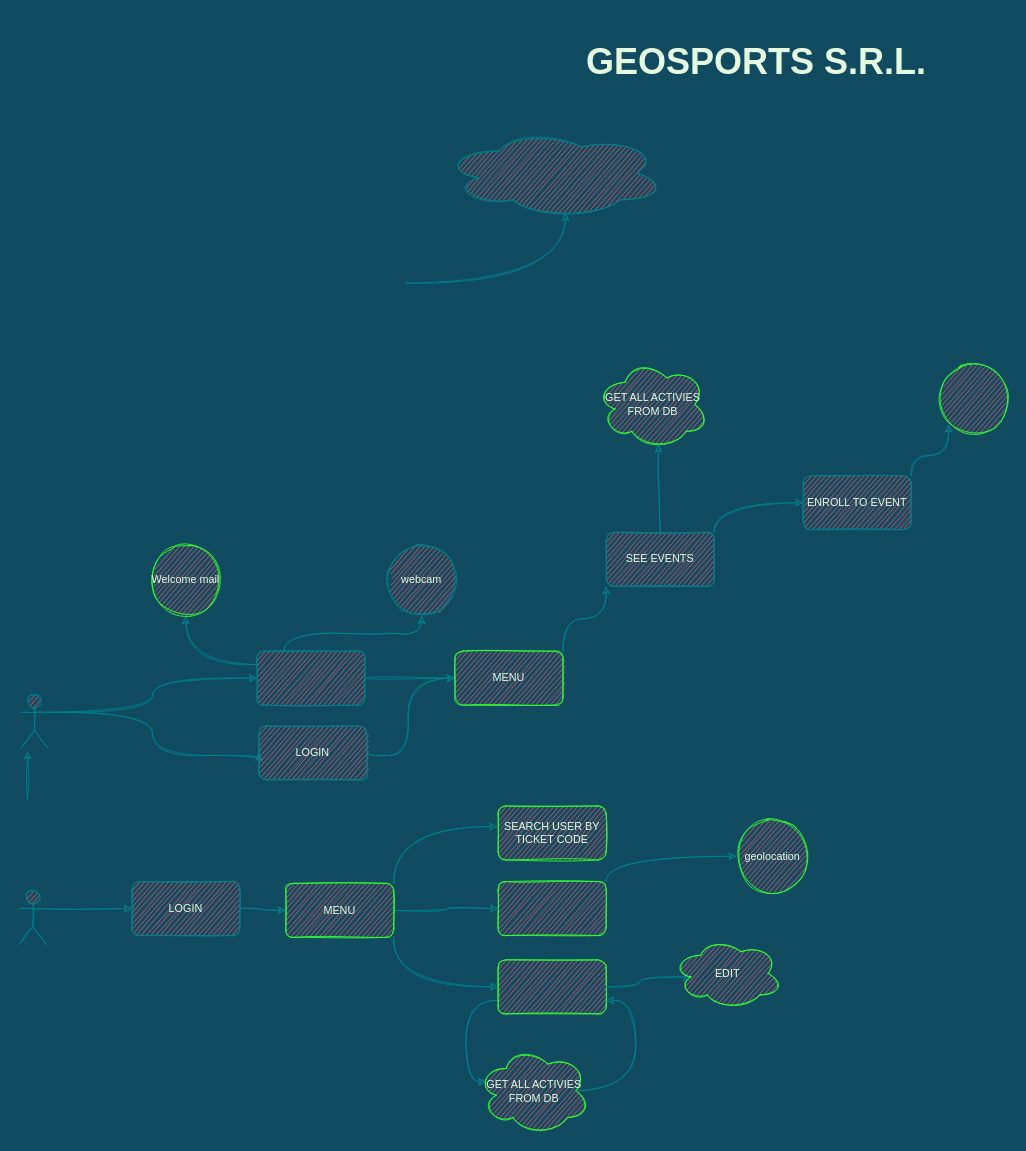
This 1026x1151 diagram has some shape labels left out. The shapes that lost their labels are listed below. From the top down, each one's centre as x and y in pixels, then its label:
At (554,172): "GET ACTIVIES FROM DB BY: -distance -category".
At (973,398): "email QR Code ticket".
At (310,677): "REGISTER".
At (34,720): "USER".
At (32,917): "ADMIN".
At (551,908): "ADD EVENT".
At (551,986): "MANAGE EVENTS".
